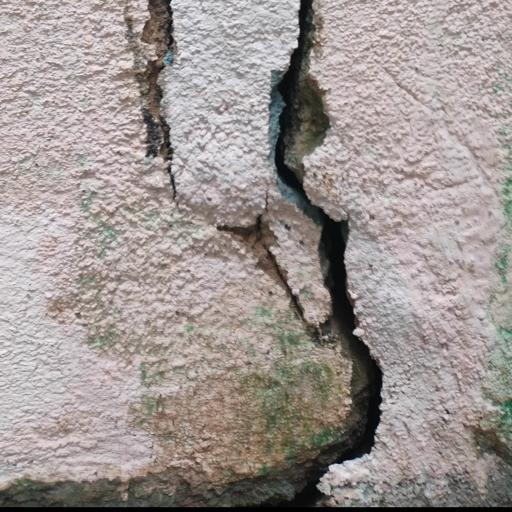major_crack: (252, 0, 418, 512), (4, 452, 364, 512), (134, 1, 189, 196)
